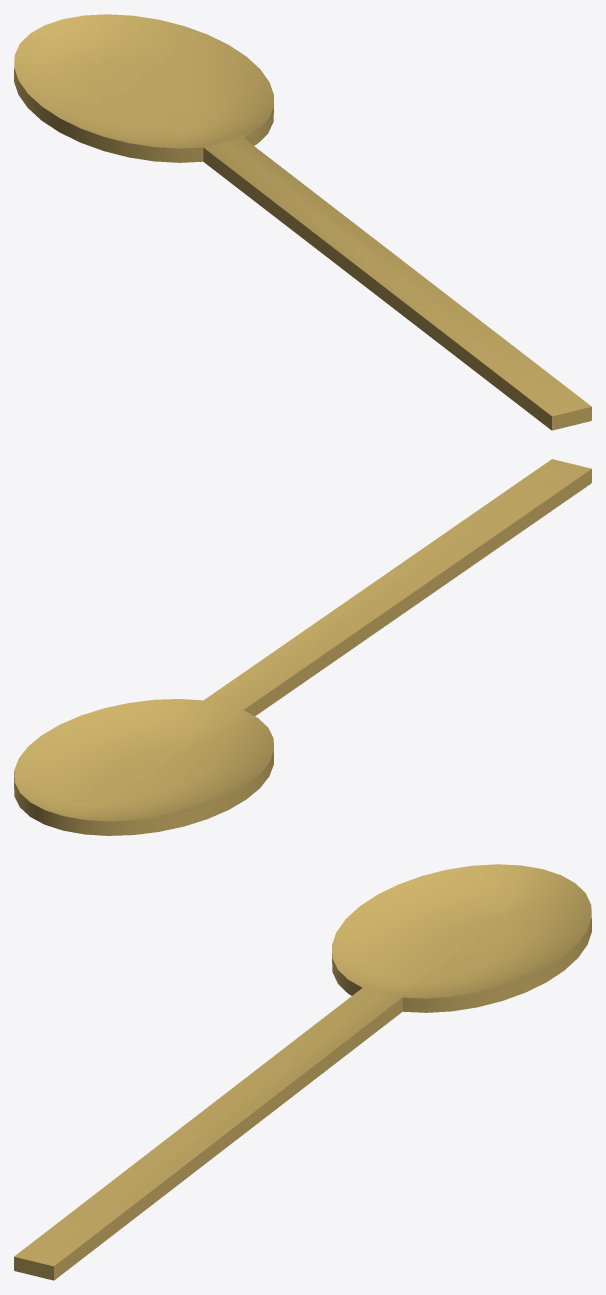
Rendered from SM_Spoon.fbx.
3 renders of one model, top to bottom at view 1: azimuth 30°, elevation 25°; view 2: azimuth 150°, elevation 25°; view 3: azimuth 330°, elevation 25°, orthographic.
Parts seen in each view (by area): view 1: SM_Spoon; view 2: SM_Spoon; view 3: SM_Spoon.
Part boxes in pixels (x1,y1,x2,y2): SM_Spoon: (14,14,591,430); SM_Spoon: (14,459,591,835); SM_Spoon: (14,864,591,1280).
Bounding box in the file's own units: 3.3 × 0.5533 × 14.22.
